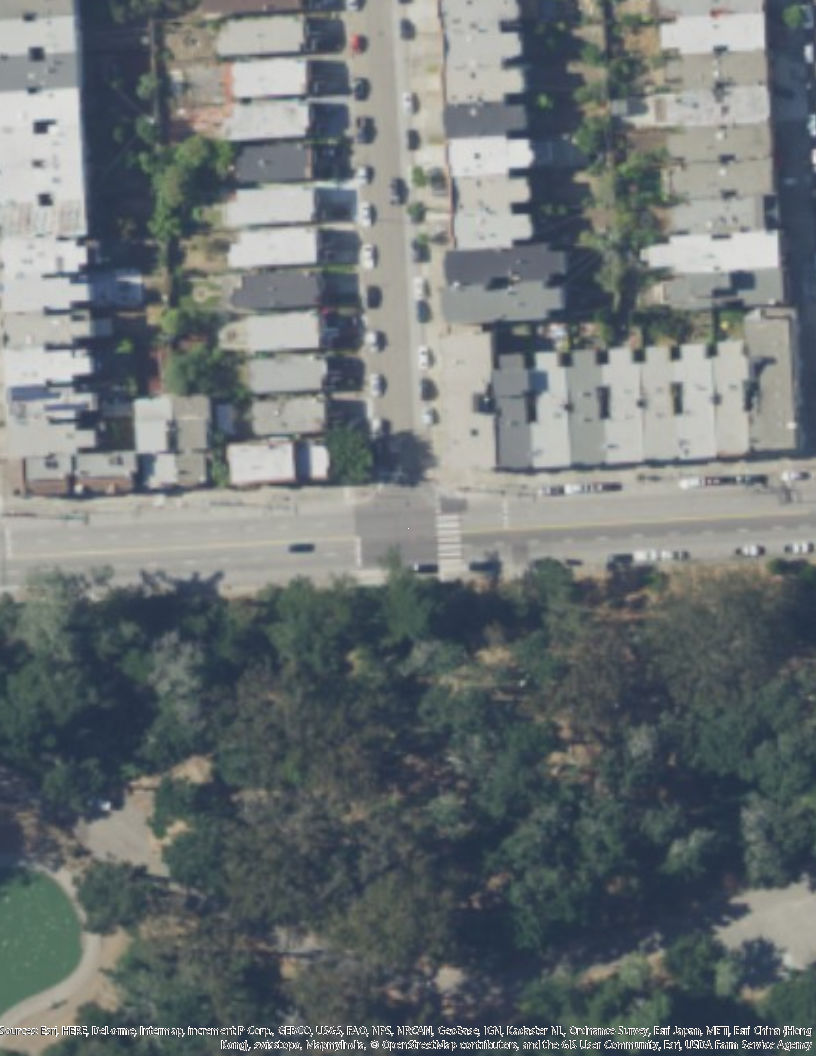zebracross: (436, 499, 466, 570)
